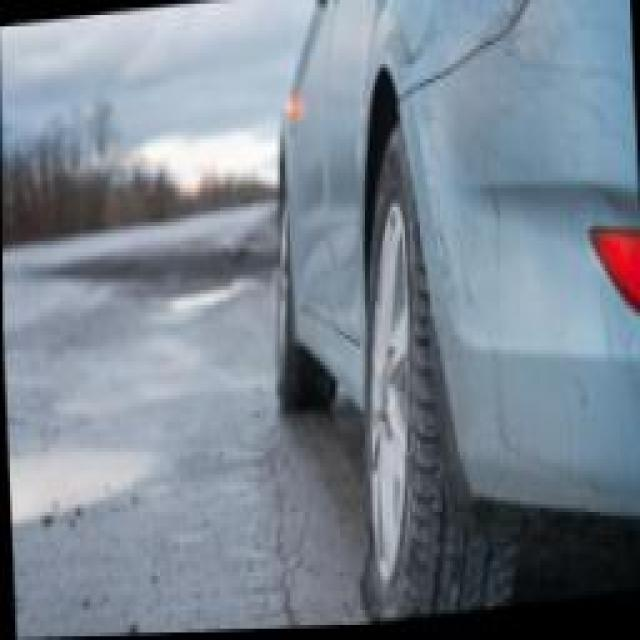Bumper: (397, 0, 640, 537)
Fender: (384, 0, 533, 93)
